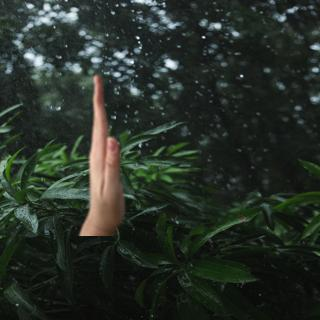Right: (73, 63, 142, 240)
